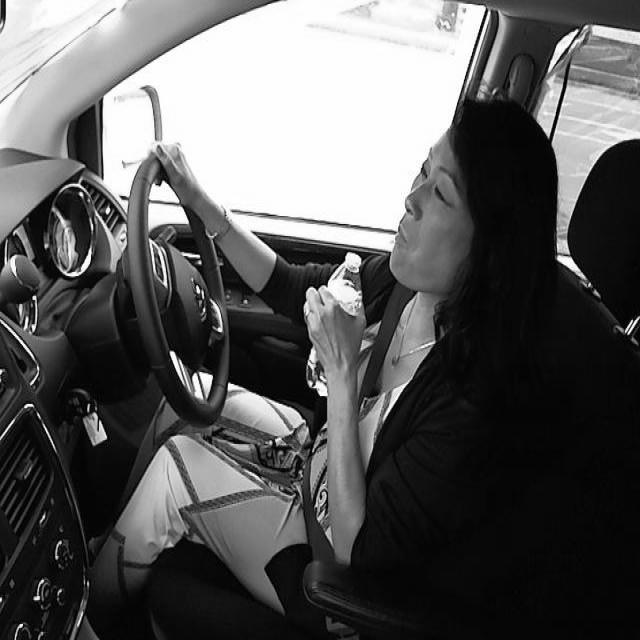drinking: (298, 248, 367, 396)
